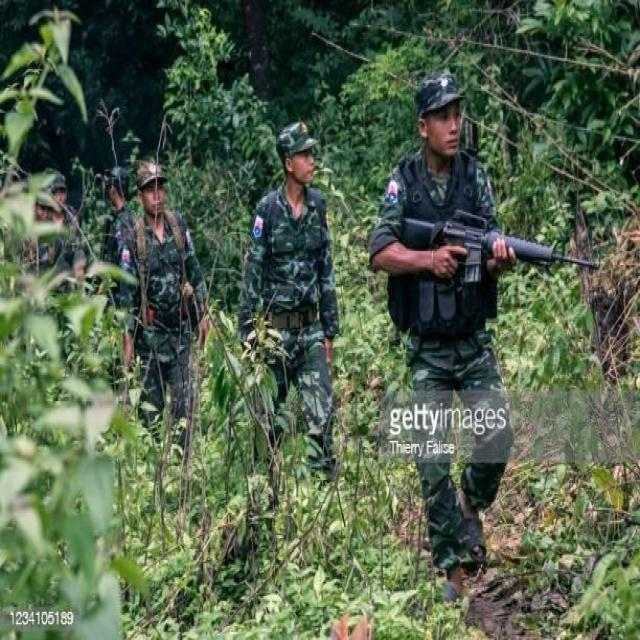gun: (378, 218, 598, 284)
